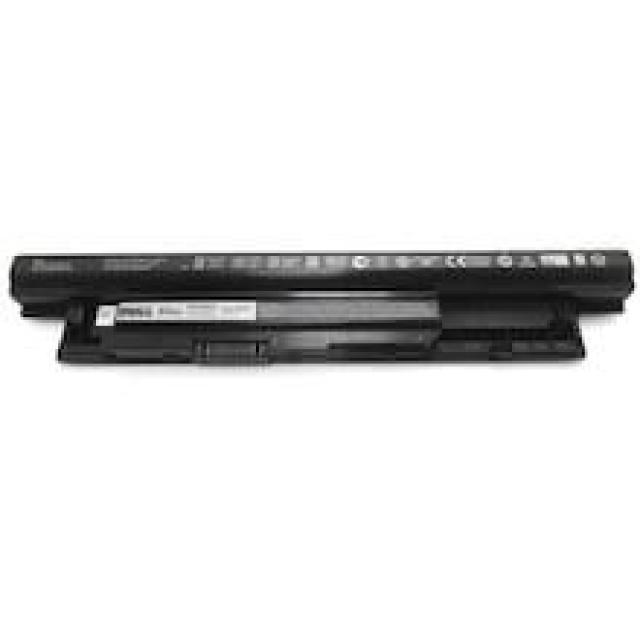Battery: (4, 232, 640, 388)
